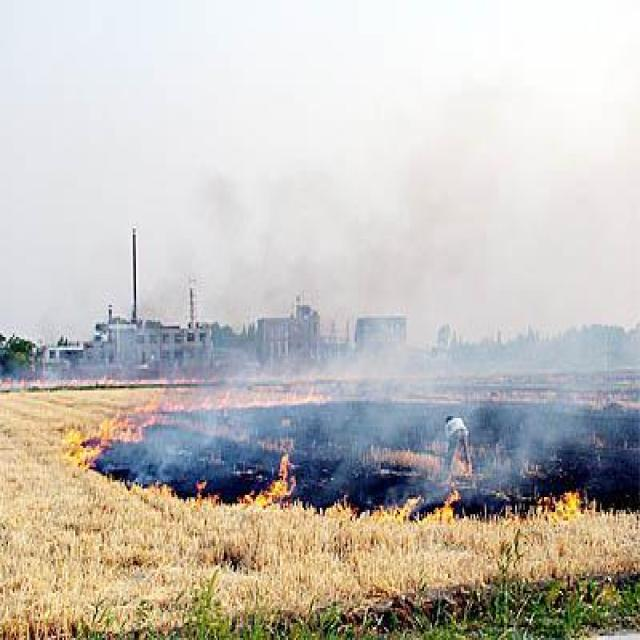fire: (68, 397, 333, 467), (228, 449, 314, 522), (389, 476, 469, 526), (543, 478, 605, 526)
smoke: (350, 328, 417, 413)
